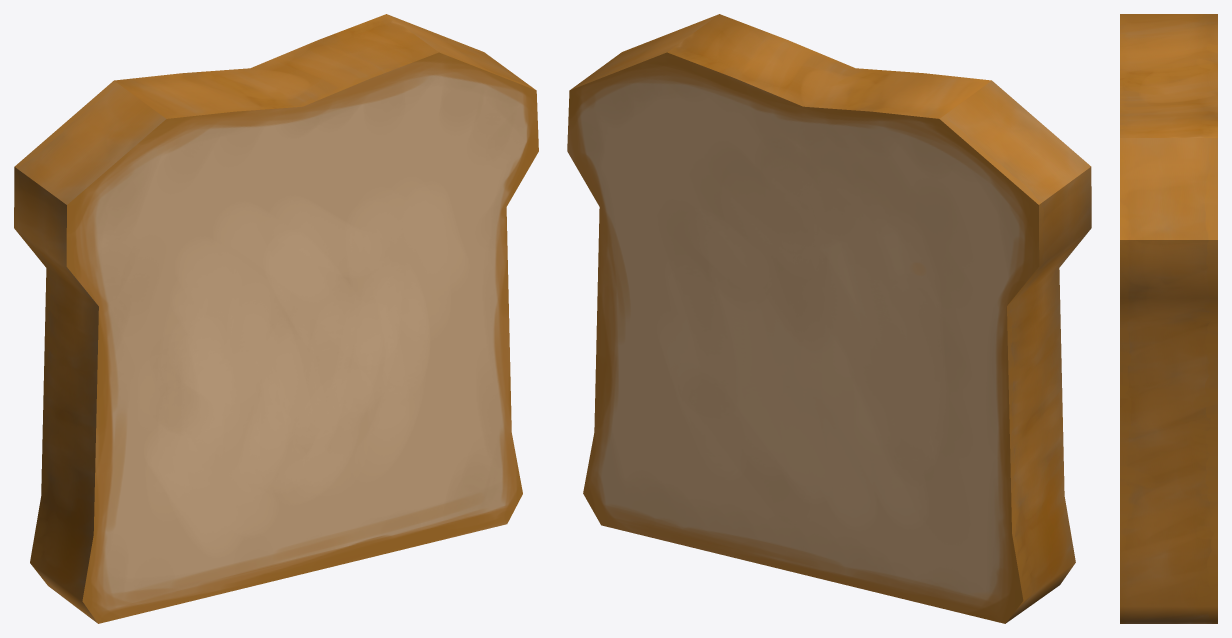
Rendered from Food_Bread.fbx.
The picture shows the model from 3 angles, left to right: view 1: azimuth 30°, elevation 25°; view 2: azimuth 150°, elevation 25°; view 3: azimuth 270°, elevation 25°; orthographic projection. The views are drawn at different scales.
Visible parts, largest first — view 1: Food_Bread; view 2: Food_Bread; view 3: Food_Bread.
Part boxes in pixels (x1,y1,x2,y2): Food_Bread: [14, 14, 538, 623]; Food_Bread: [567, 14, 1091, 623]; Food_Bread: [1120, 14, 1217, 623].
Bounding box in the file's own units: 69.93 × 69.22 × 13.47.
